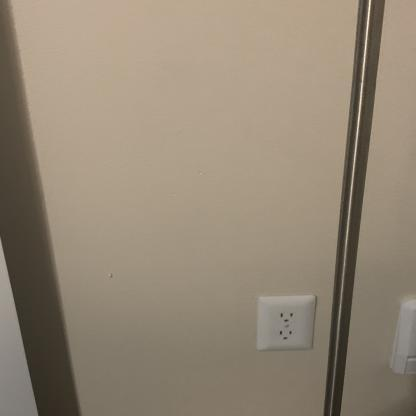OUTLET: (256, 294, 315, 351)
